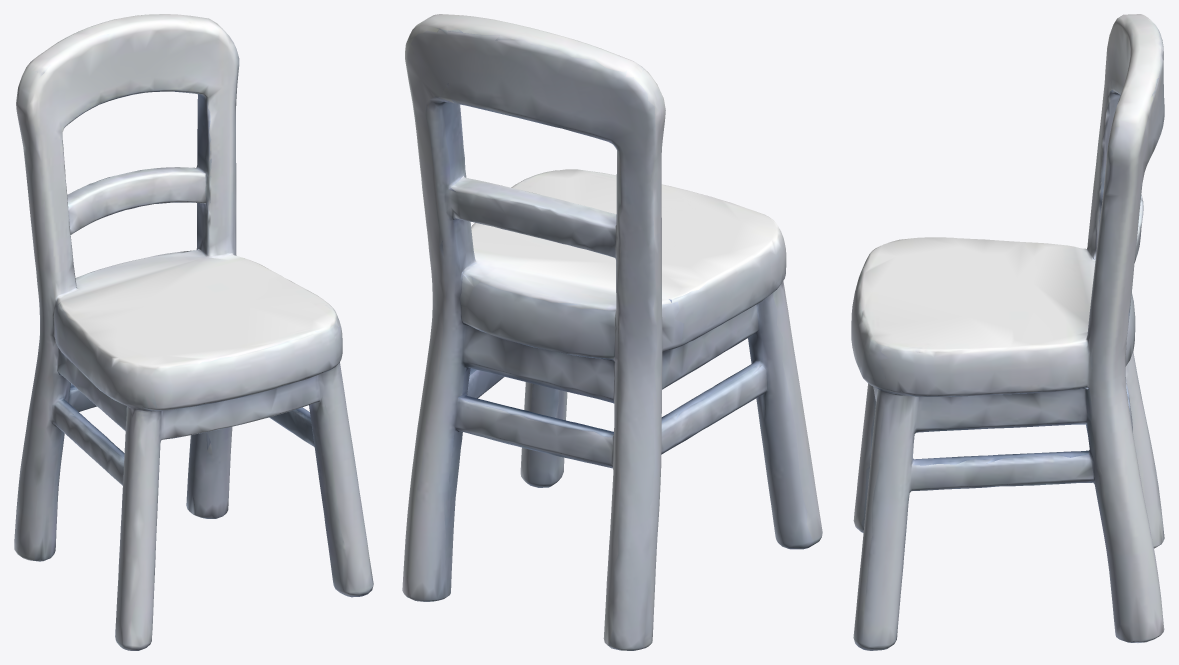
File: White_chair.glb
3 views of the same model, side by side, from view 1: azimuth 30°, elevation 25°; view 2: azimuth 150°, elevation 25°; view 3: azimuth 270°, elevation 25° (orthographic). The views are drawn at different scales.
Parts seen in each view (by area): view 1: Mesh_0; view 2: Mesh_0; view 3: Mesh_0.
Part boxes in pixels (x1,y1,x2,y2): Mesh_0: [14, 14, 373, 650]; Mesh_0: [402, 14, 822, 650]; Mesh_0: [851, 14, 1164, 650].
Bounding box in the file's own units: 0.5194 × 1 × 0.5189.
1 material, 1 textured.
